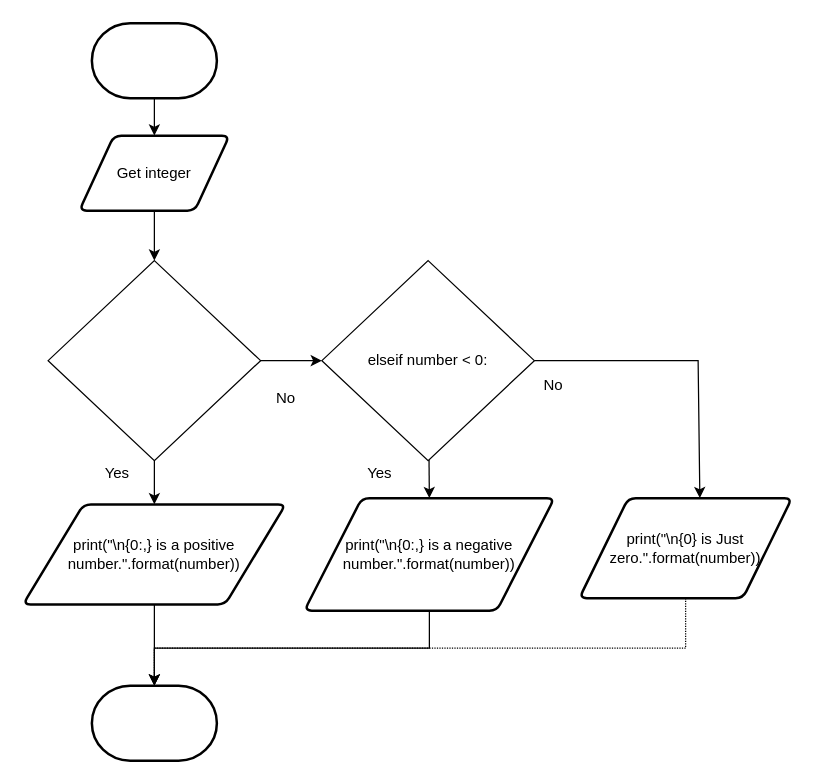
Some shapes in this 814 by 783 pixel diagram are drawn without their labels. The box of each missing label's shape, as (x1, y1, x2, y2) in pixels:
if number > 0: (47, 259, 261, 461)
Start: (90, 21, 218, 99)
Stop: (90, 684, 218, 761)
